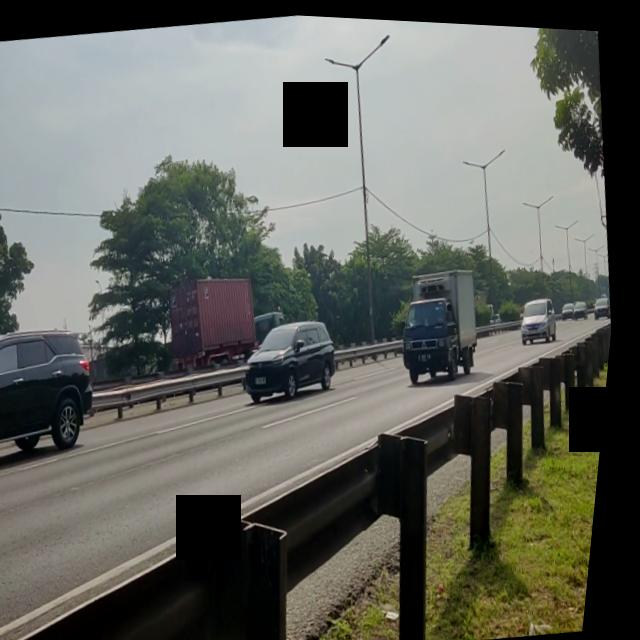Golongan I: (392, 254, 496, 384), (239, 302, 354, 410)
